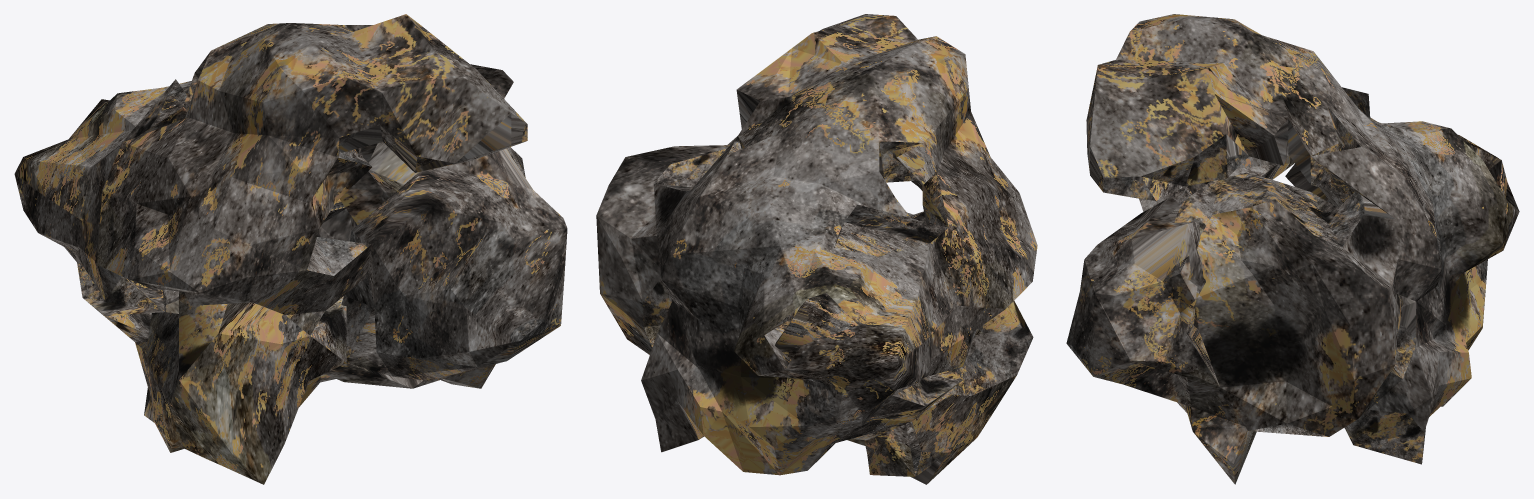
File: Asteroids_Shard_03_M.FBX
The picture shows the model from 3 angles, left to right: view 1: azimuth 30°, elevation 25°; view 2: azimuth 150°, elevation 25°; view 3: azimuth 270°, elevation 25°; orthographic projection. The views are drawn at different scales.
Parts seen in each view (by area): view 1: MeteorShard_04, MeteorShard_03, MeteorShard_02, MeteorShard_08, MeteorShard_07, MeteorShard_05, MeteorShard_09, MeteorShard_06, MeteorShard_01; view 2: MeteorShard_06, MeteorShard_02, MeteorShard_07, MeteorShard_09, MeteorShard_03, MeteorShard_05, MeteorShard_08, MeteorShard_01; view 3: MeteorShard_05, MeteorShard_02, MeteorShard_04, MeteorShard_06, MeteorShard_01, MeteorShard_09, MeteorShard_07, MeteorShard_03, MeteorShard_08.
Part boxes in pixels (x1,y1,x2,y2): MeteorShard_04: (325,147,567,388); MeteorShard_03: (96,80,371,305); MeteorShard_02: (198,14,527,172); MeteorShard_08: (135,237,371,484); MeteorShard_07: (14,79,186,300); MeteorShard_05: (340,64,525,224); MeteorShard_09: (64,247,178,342); MeteorShard_06: (69,51,210,138); MeteorShard_01: (317,199,357,241); MeteorShard_06: (656,132,910,350); MeteorShard_02: (736,14,970,183); MeteorShard_07: (774,204,1005,394); MeteorShard_09: (722,308,962,475); MeteorShard_03: (893,111,1037,308); MeteorShard_05: (596,144,729,354); MeteorShard_08: (794,211,1033,484); MeteorShard_01: (641,301,795,471); MeteorShard_05: (1160,173,1403,436); MeteorShard_02: (1086,14,1365,200); MeteorShard_04: (1066,197,1256,484); MeteorShard_06: (1311,107,1507,301); MeteorShard_01: (1344,242,1471,464); MeteorShard_09: (1440,201,1519,350); MeteorShard_07: (1285,87,1519,211); MeteorShard_03: (1229,154,1294,179); MeteorShard_08: (1139,181,1210,211).
Bounding box in the file's own units: 0.747 × 0.7416 × 0.756.
1 material, 1 textured.
